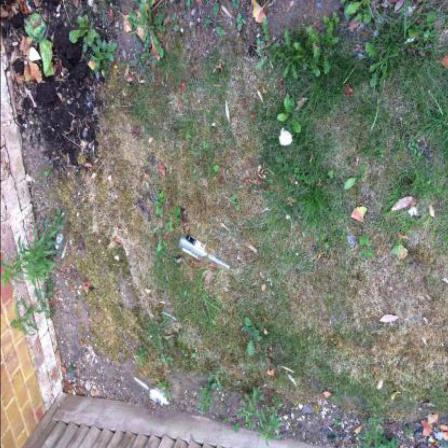Bottle: (178, 234, 231, 272), (133, 376, 171, 410), (54, 214, 70, 263)
Cigarette: (59, 298, 64, 302), (94, 147, 95, 154)
Plastic bag - wrapper: (348, 237, 355, 250)
Unlabeled litter: (280, 128, 294, 146), (163, 313, 178, 322), (405, 39, 417, 45), (416, 36, 423, 40)
